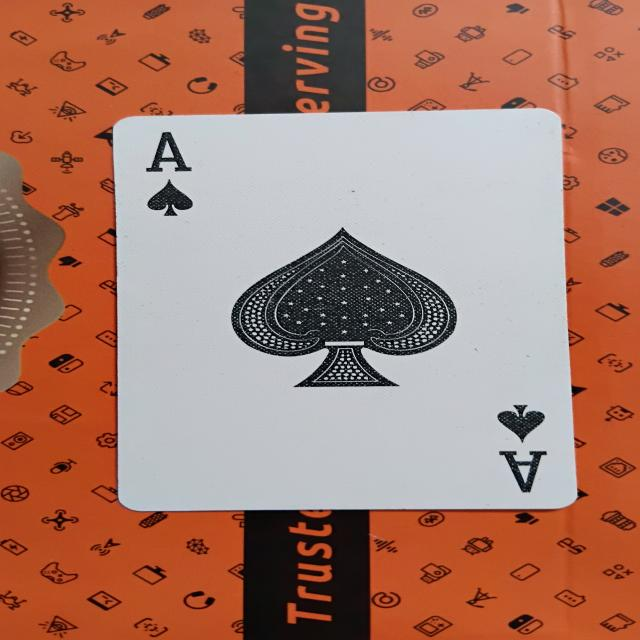AS: (120, 119, 580, 508)
